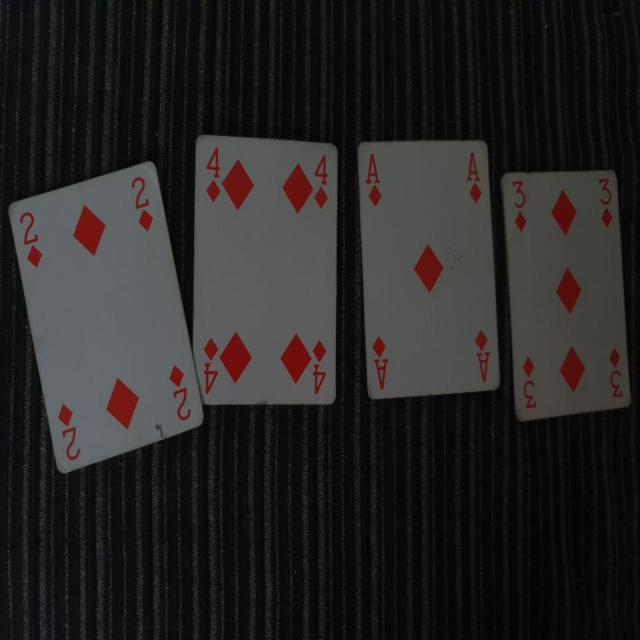2 Diamonds: (5, 156, 205, 483)
3 Diamonds: (500, 165, 634, 424)
4 Diamonds: (190, 131, 344, 415)
A Diamonds: (351, 133, 506, 408)
